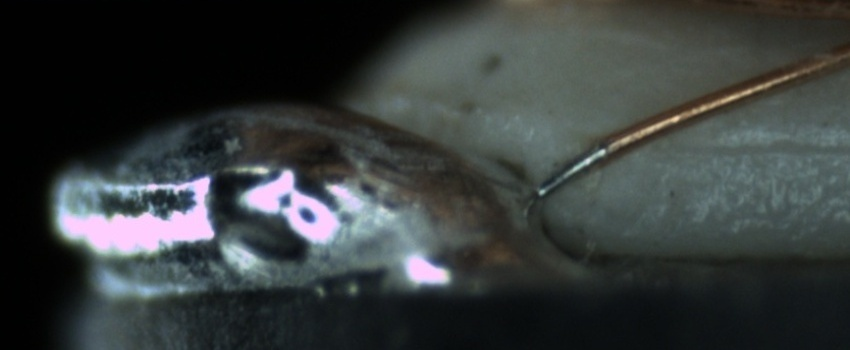DL: (666, 113, 850, 177)
TS: (535, 143, 609, 199)
TTCW: (536, 122, 652, 199)
